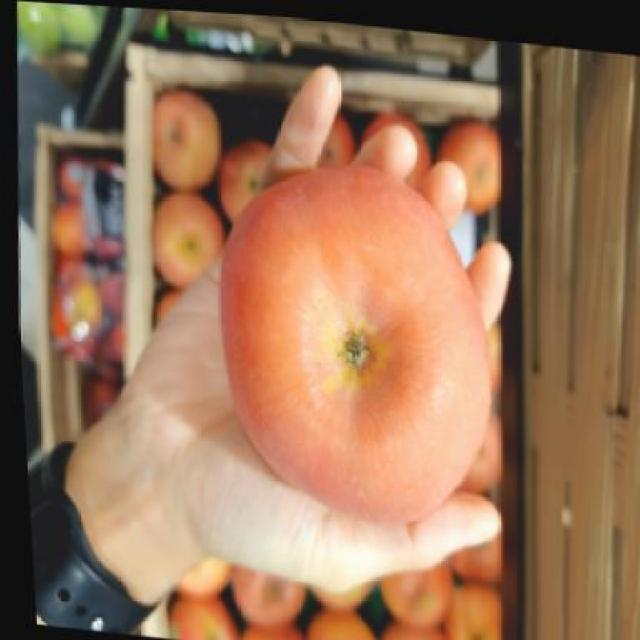Fresh Apple: (215, 173, 511, 530)
